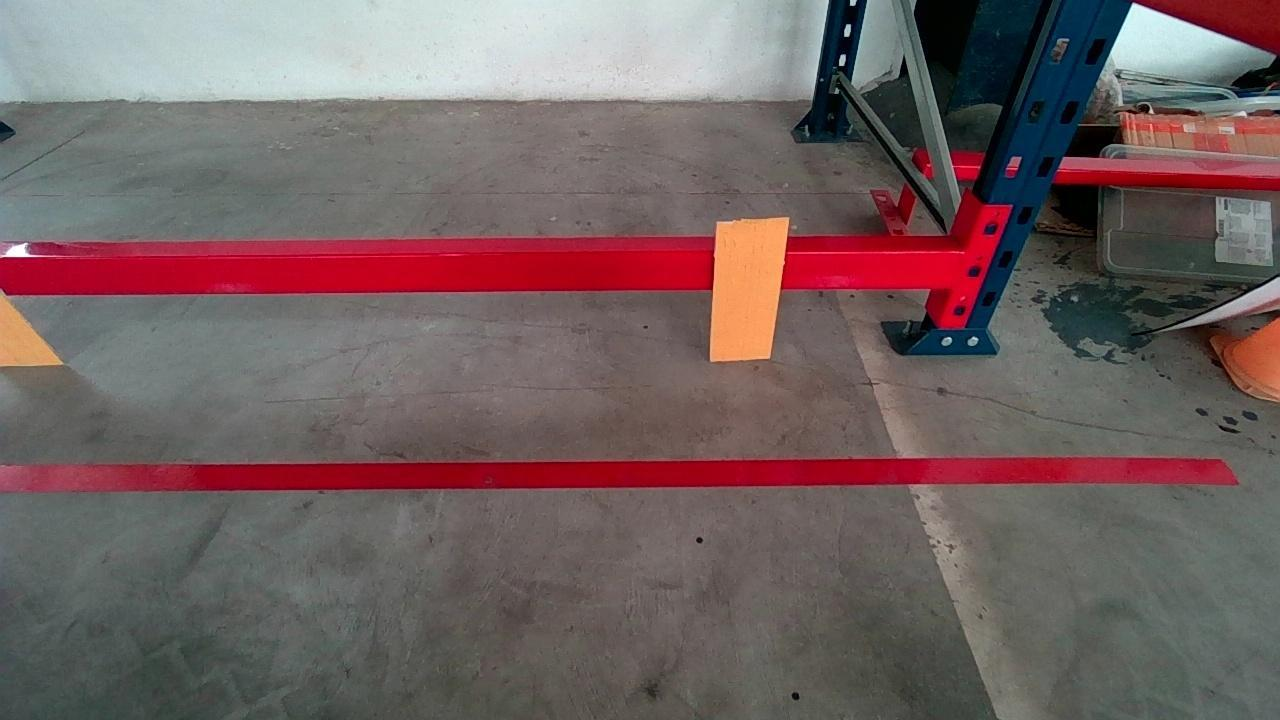h_rack: (3, 244, 955, 296)
orange_strip: (709, 219, 786, 360)
red_line: (0, 456, 1233, 490)
